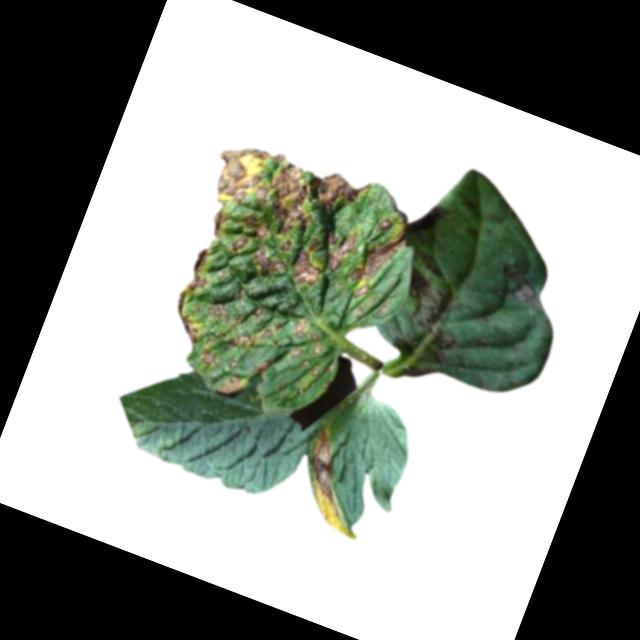Early_blight: (141, 126, 420, 435), (282, 425, 390, 543), (382, 264, 477, 372), (488, 251, 553, 316), (405, 199, 449, 244)
